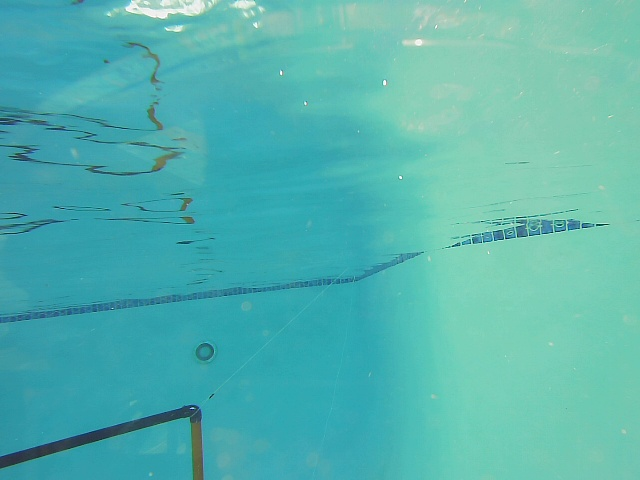Gate: (186, 418, 208, 480)
